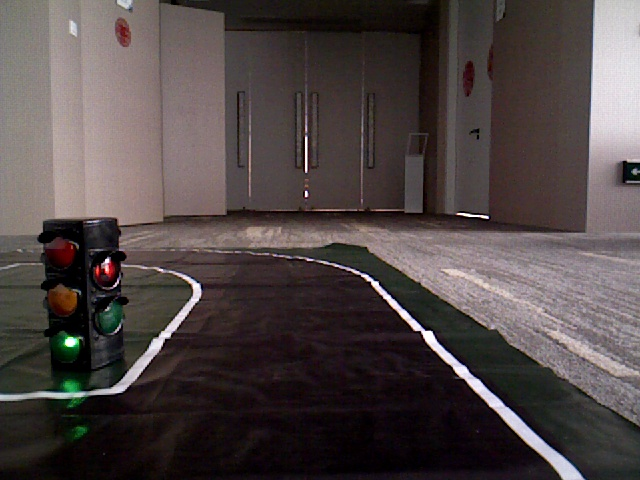green: (47, 222, 91, 370)
